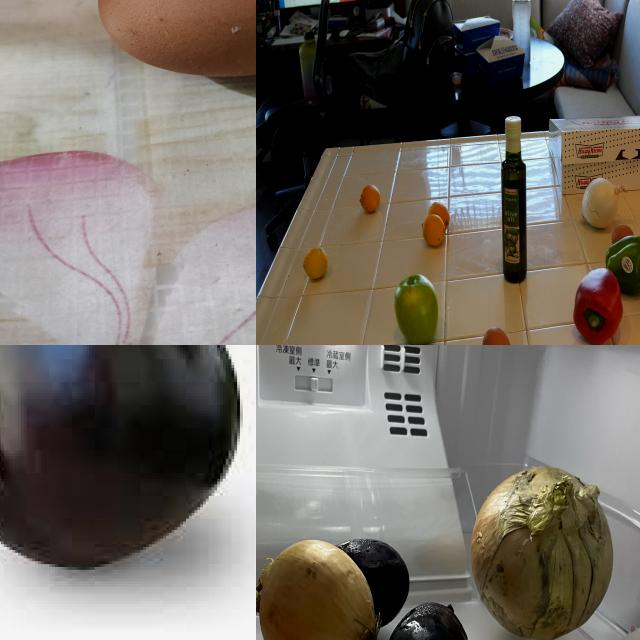bell_pepper: (575, 271, 629, 345), (610, 238, 640, 299)
egg: (483, 327, 521, 346), (607, 227, 633, 252)
eggplant: (1, 346, 235, 568), (338, 543, 414, 629), (386, 597, 476, 640)
onion: (472, 466, 616, 640), (257, 538, 380, 640), (579, 177, 620, 229)
